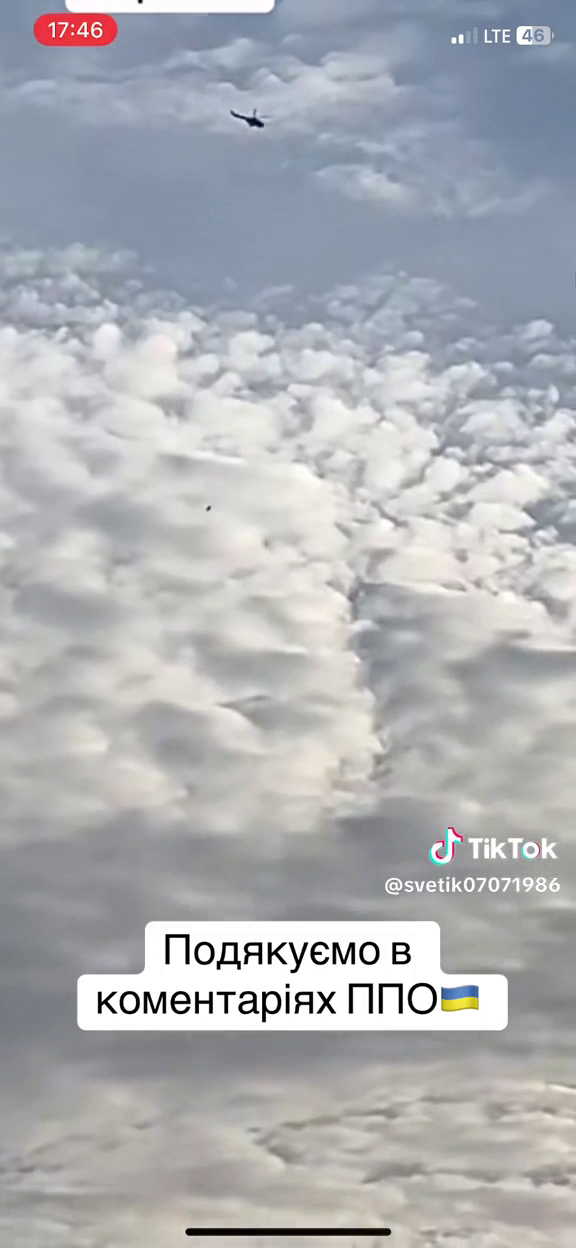not_drone: (226, 100, 276, 136)
